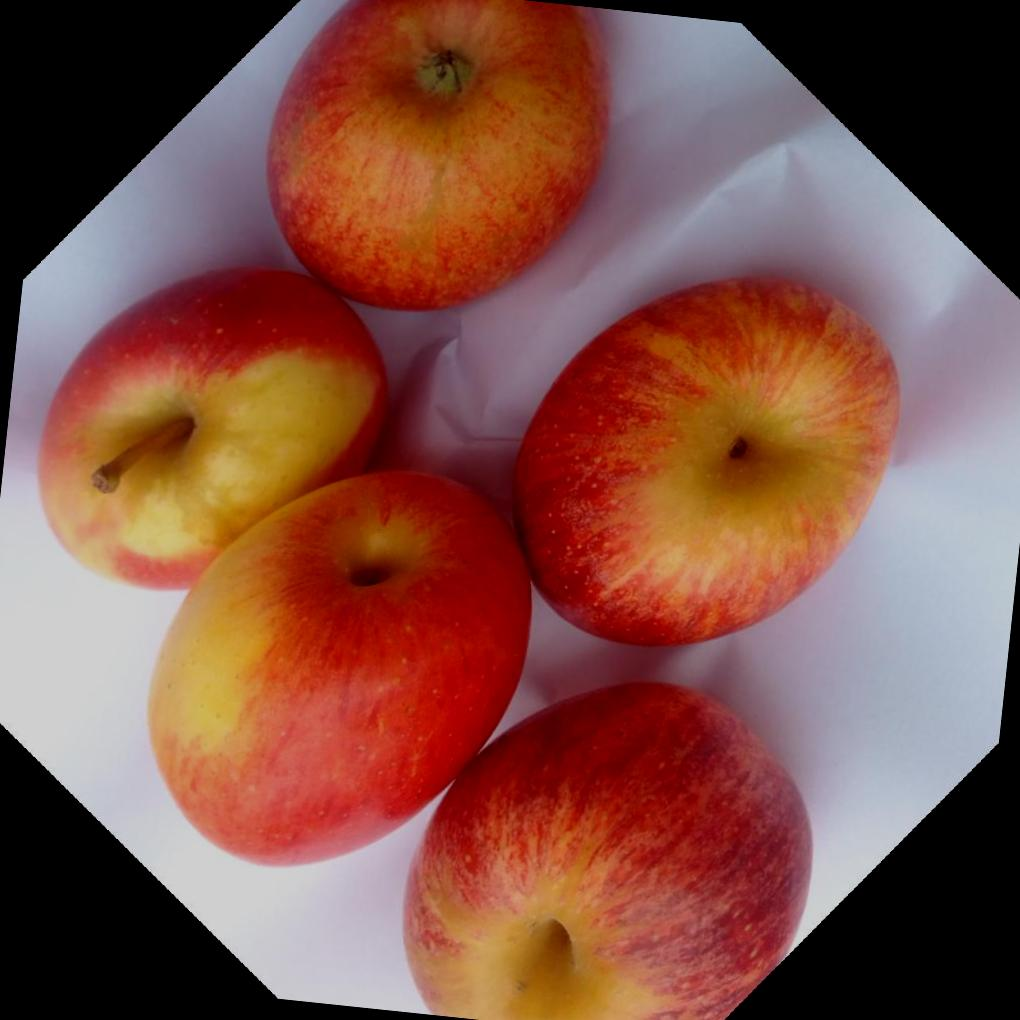FreshGuava: (33, 0, 906, 1020)
